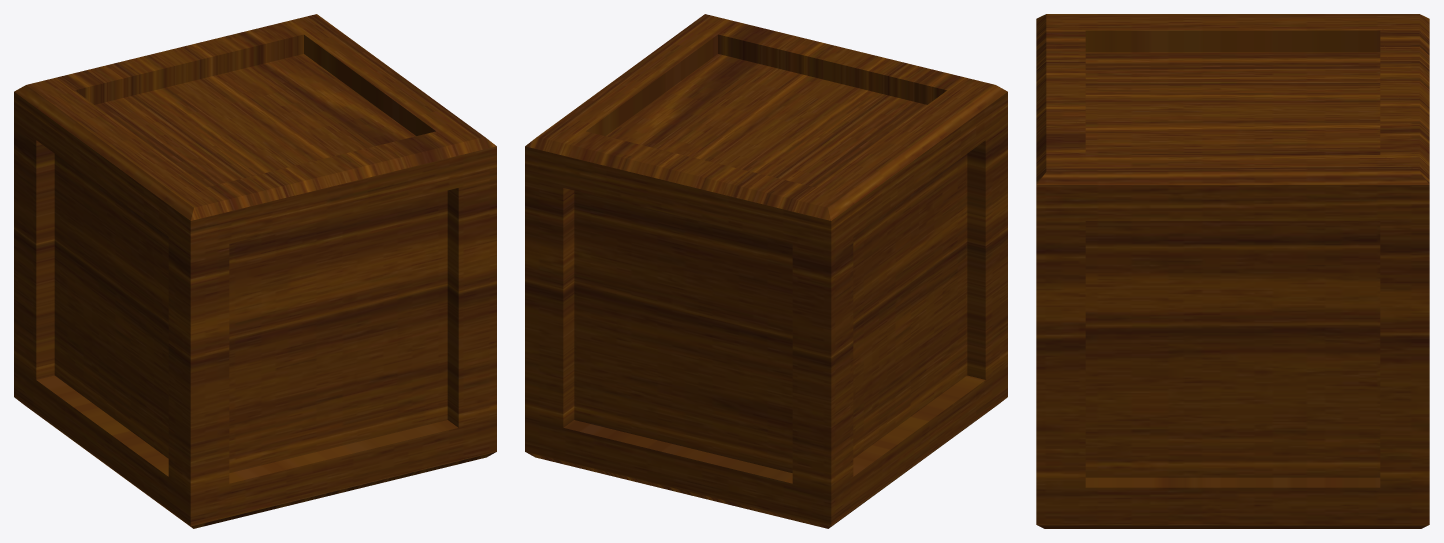
File: WoddenBox.obj
3 renders of one model, left to right at view 1: azimuth 30°, elevation 25°; view 2: azimuth 150°, elevation 25°; view 3: azimuth 270°, elevation 25°, orthographic. The views are drawn at different scales.
Parts seen in each view (by area): view 1: Cube; view 2: Cube; view 3: Cube.
Boxes of the visible parts, left/top/right/bottom form: Cube: left=14, top=14, right=496, bottom=528; Cube: left=525, top=14, right=1007, bottom=528; Cube: left=1036, top=14, right=1429, bottom=528.
Bounding box in the file's own units: 2 × 2 × 2.
